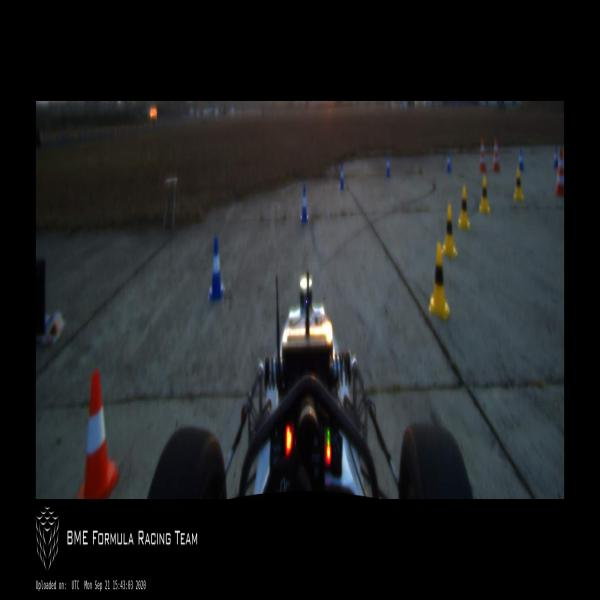blue_cone: (207, 235, 225, 302), (300, 186, 308, 224), (518, 146, 524, 172), (552, 146, 558, 168), (340, 163, 344, 189), (446, 153, 451, 173), (386, 155, 390, 177)
large_orange_cone: (555, 148, 564, 197), (479, 136, 488, 173), (492, 137, 500, 172)
orange_cone: (78, 372, 118, 498)
yellow_cone: (429, 244, 450, 320), (442, 206, 457, 258), (458, 187, 470, 230), (480, 176, 490, 214), (514, 167, 523, 201)
